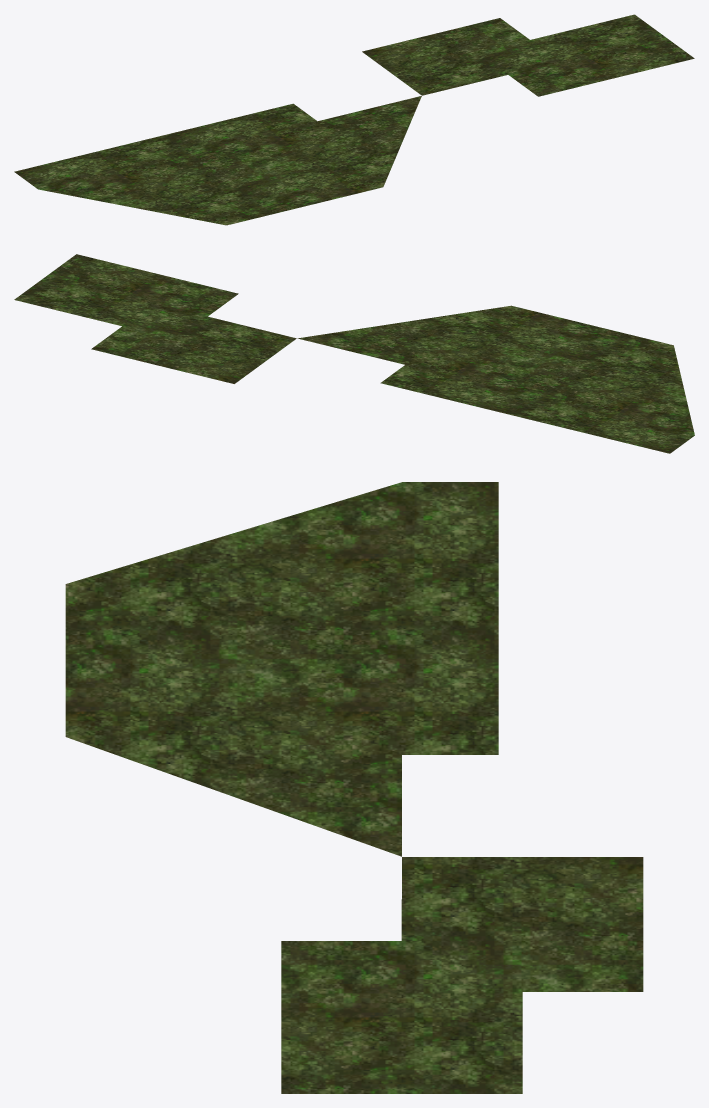
File: OVERHILL_A_01_LINE153.fbx
3 renders of one model, top to bottom at view 1: azimuth 30°, elevation 25°; view 2: azimuth 150°, elevation 25°; view 3: azimuth 270°, elevation 25°, orthographic. The views are drawn at different scales.
Parts seen in each view (by area): view 1: OVERHILL_A_01_LINE153; view 2: OVERHILL_A_01_LINE153; view 3: OVERHILL_A_01_LINE153.
Boxes of the visible parts, x1,y1,x2,y2 form: OVERHILL_A_01_LINE153: (14, 14, 694, 225); OVERHILL_A_01_LINE153: (14, 254, 694, 453); OVERHILL_A_01_LINE153: (65, 482, 643, 1093).
Size of the model in its own units: 120000 by 0.0264 by 47883.
1 material, 1 textured.
